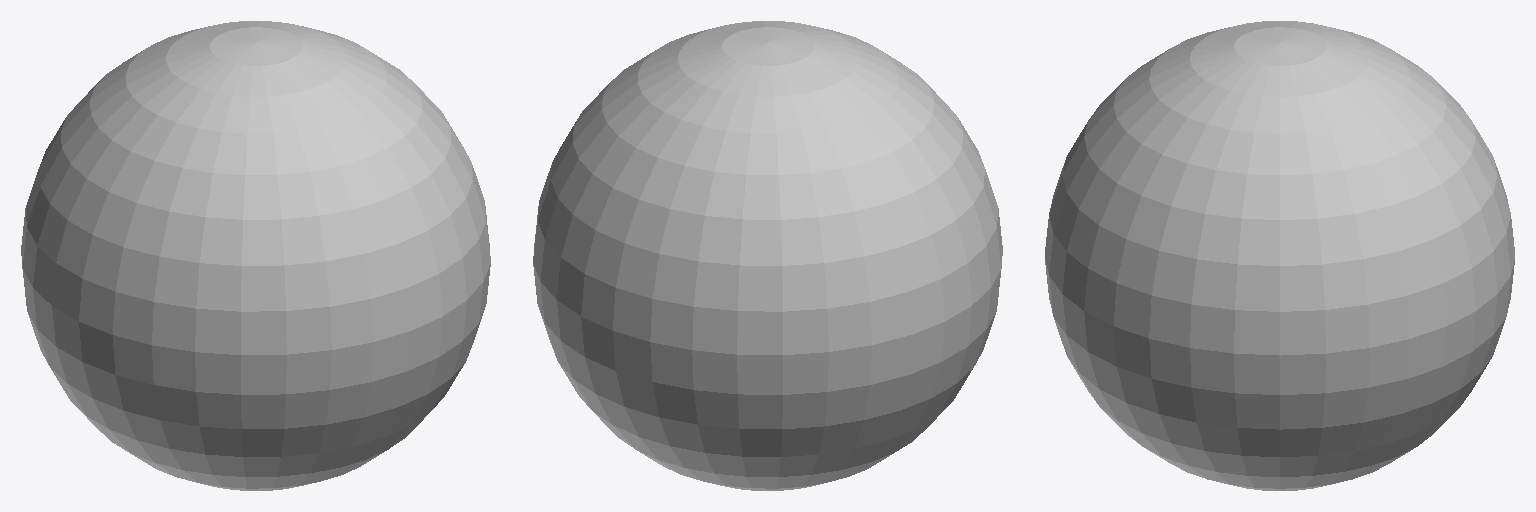
The model's file is vertex_painted_sphere_OBJ.obj.
3 views of the same model, side by side, from view 1: azimuth 30°, elevation 25°; view 2: azimuth 150°, elevation 25°; view 3: azimuth 270°, elevation 25° (orthographic).
Parts seen in each view (by area): view 1: Sphere001; view 2: Sphere001; view 3: Sphere001.
Part boxes in pixels (bbox=[...]): Sphere001: bbox=[21, 21, 490, 490]; Sphere001: bbox=[533, 21, 1002, 490]; Sphere001: bbox=[1045, 21, 1514, 490].
Size of the model in its own units: 52.6 by 52.6 by 52.6.